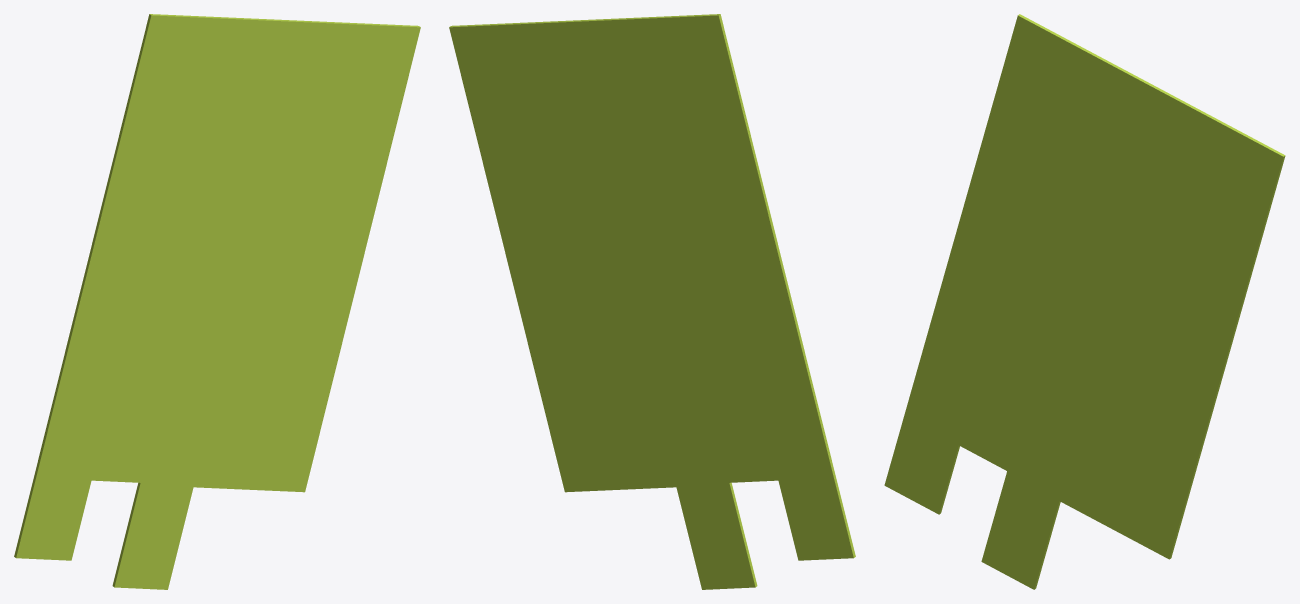
3 renders of one model, left to right at view 1: azimuth 30°, elevation 25°; view 2: azimuth 150°, elevation 25°; view 3: azimuth 330°, elevation 25°, orthographic.
Visible parts, largest first — view 1: osm-way27917482-F0; view 2: osm-way27917482-F0; view 3: osm-way27917482-F0.
Part boxes in pixels (x1,y1,x2,y2): osm-way27917482-F0: [14, 14, 420, 589]; osm-way27917482-F0: [449, 14, 855, 589]; osm-way27917482-F0: [884, 14, 1285, 589].
Bounding box in the file's own units: 17.6 × 24.03 × 0.15.
